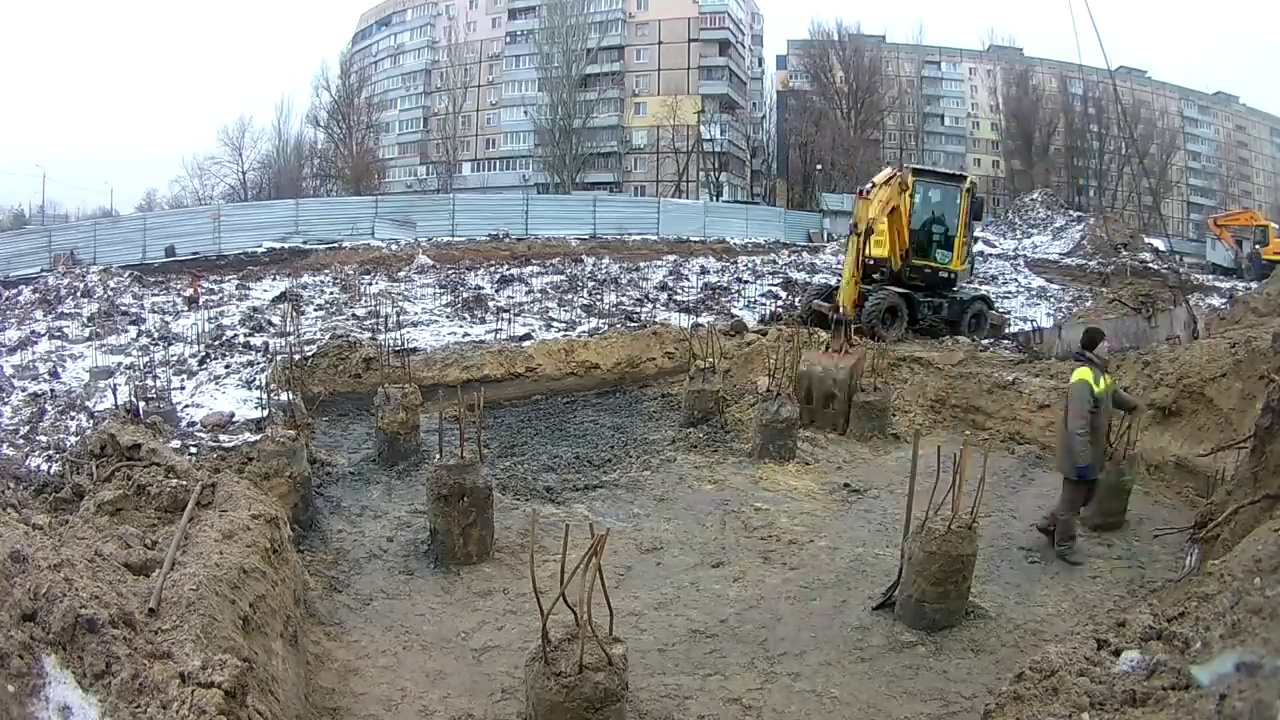helmet-off: (1078, 328, 1111, 367)
person: (1033, 328, 1136, 567)
